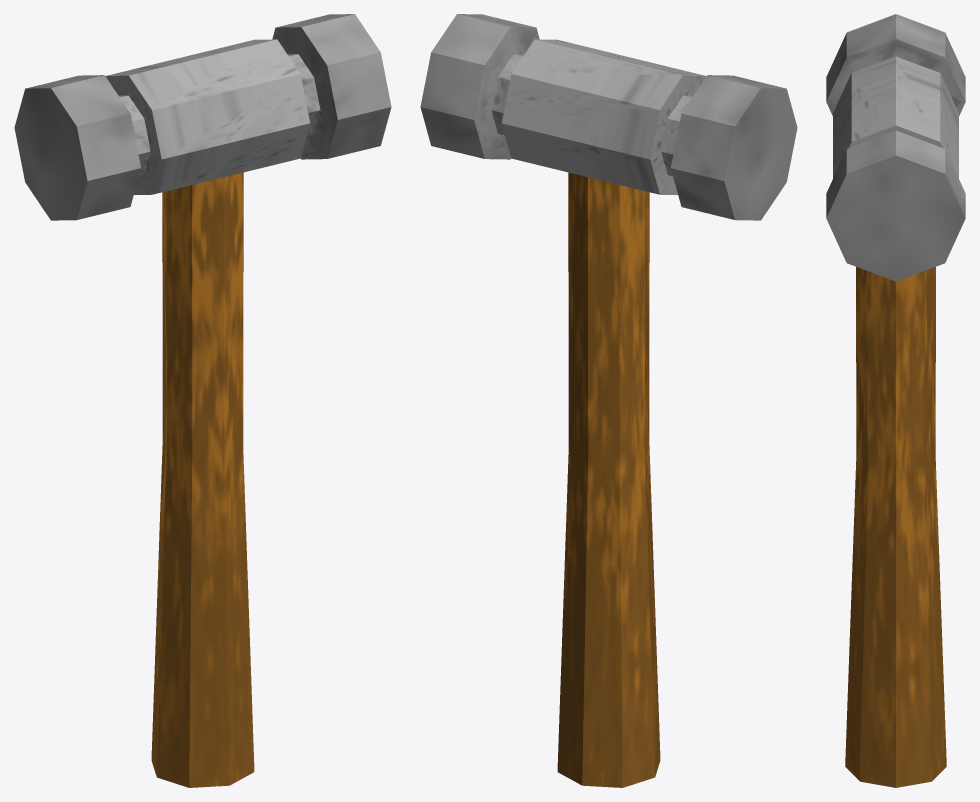
Rendered from martelo.fbx.
3 views of the same model, side by side, from view 1: azimuth 30°, elevation 25°; view 2: azimuth 150°, elevation 25°; view 3: azimuth 270°, elevation 25° (orthographic). The views are drawn at different scales.
Visible parts, largest first — view 1: martelo; view 2: martelo; view 3: martelo.
Part boxes in pixels (x1,y1,x2,y2): martelo: (14, 14, 391, 787); martelo: (420, 14, 797, 787); martelo: (826, 14, 965, 787).
Size of the model in its own units: 13.42 by 29.6 by 5.48.
